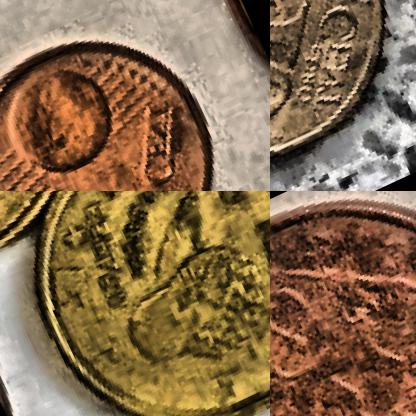coin: (0, 191, 269, 415), (0, 1, 254, 190), (270, 191, 415, 415), (270, 0, 415, 190)
